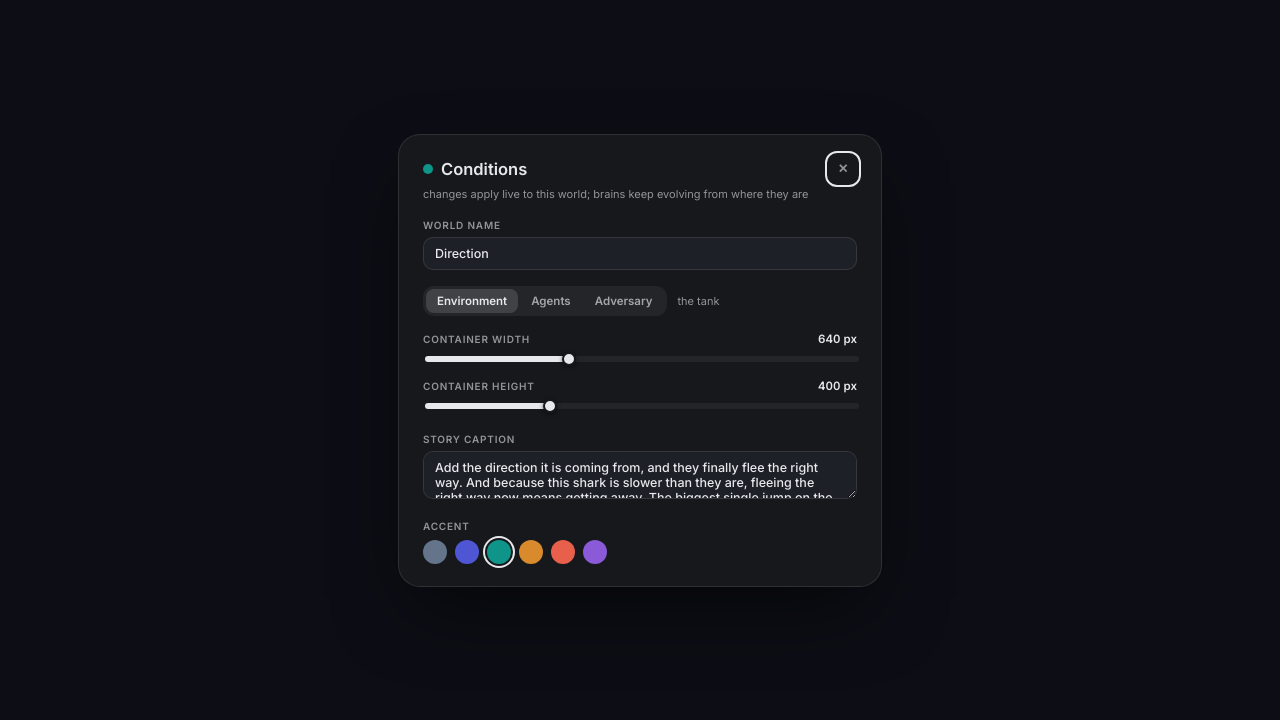
Test: ConditionsModal › says when the adversary has become too fast for any sense to matter
Click the radio button labelled "Adversary" at (624, 300), box left=584, top=288, right=664, bottom=312
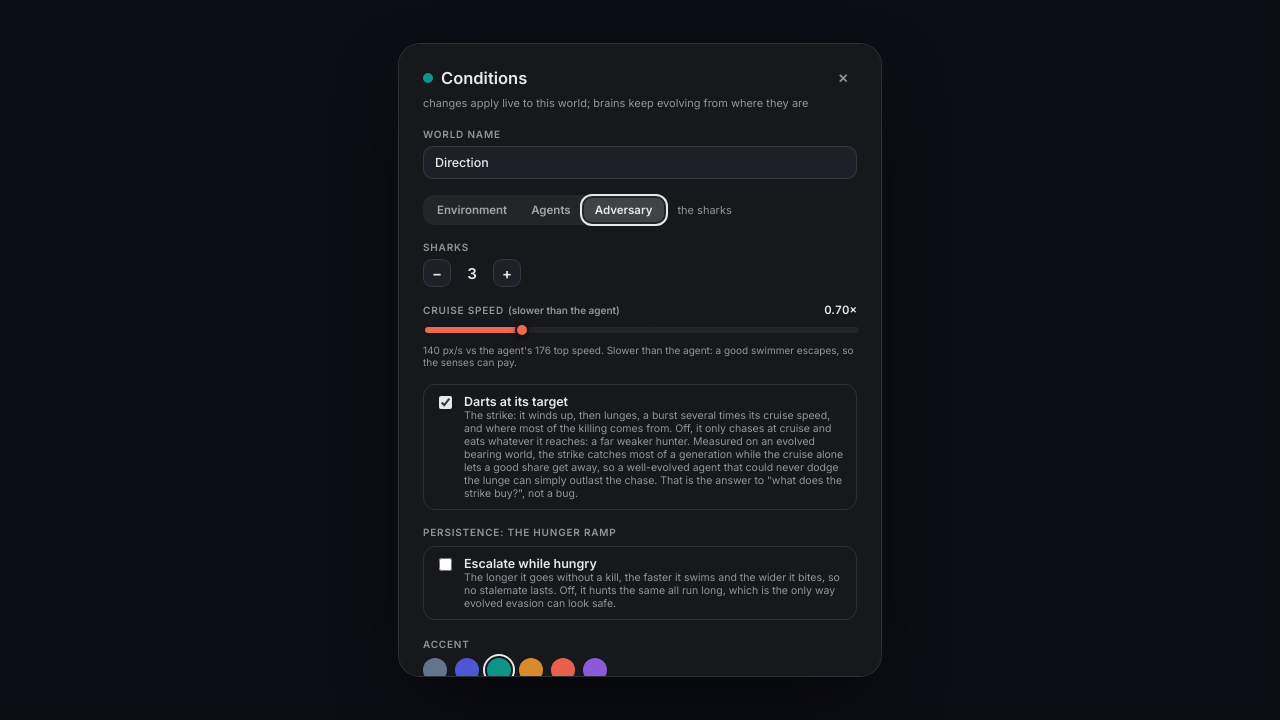
Expected: the text "the senses can pay" is shown, left=423, top=344, right=854, bottom=368
Set the slider labelled "Cruise speed(slower than the agent) 0.70×" to "1.4" at (732, 330), box left=425, top=321, right=859, bottom=339
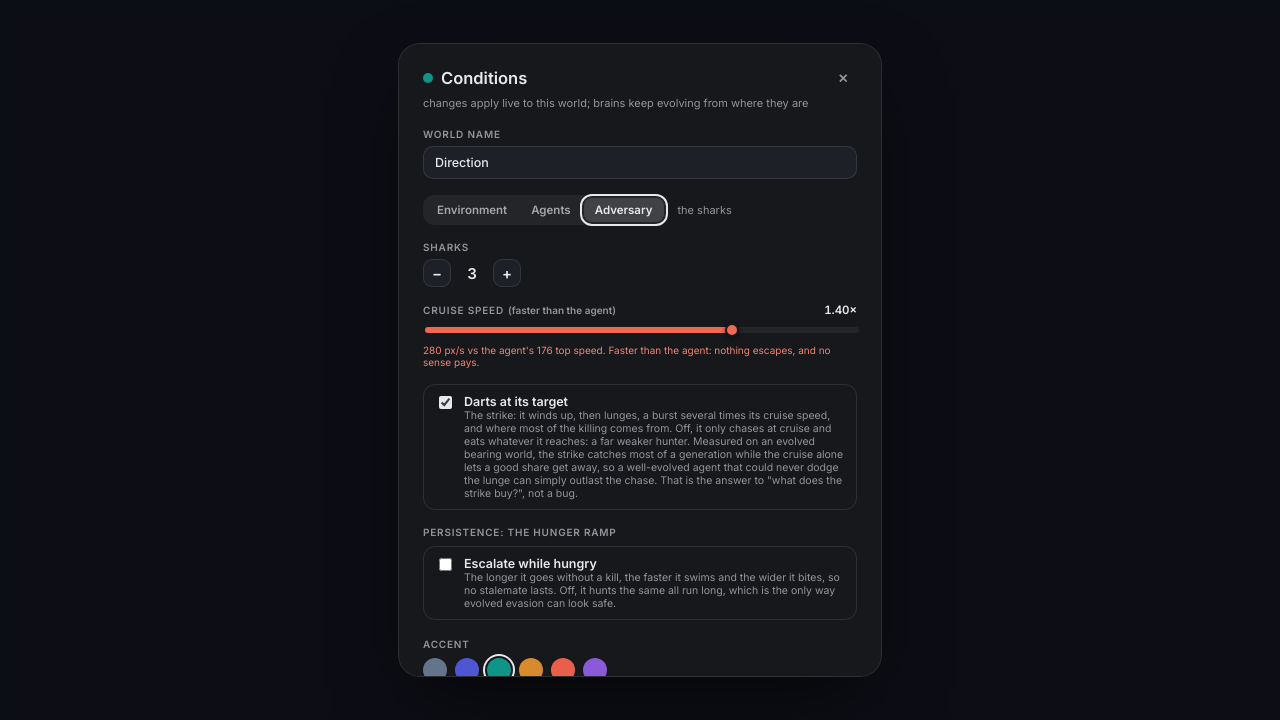
Expected: the text "no sense pays" is shown, left=423, top=344, right=830, bottom=368
